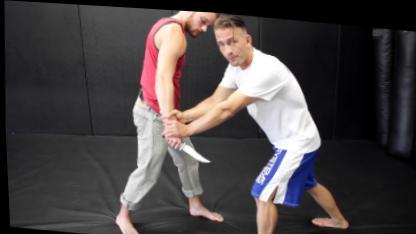knife: (158, 127, 214, 164)
